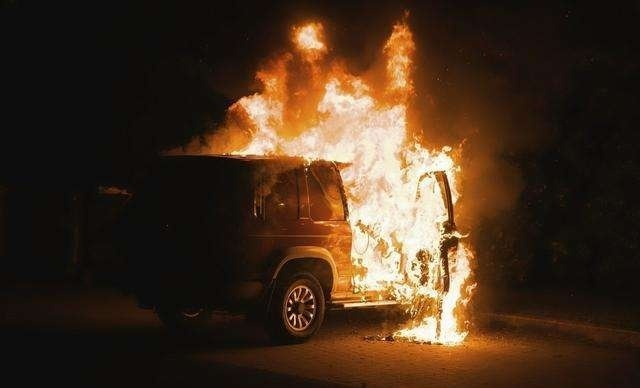fire: (229, 3, 487, 353)
